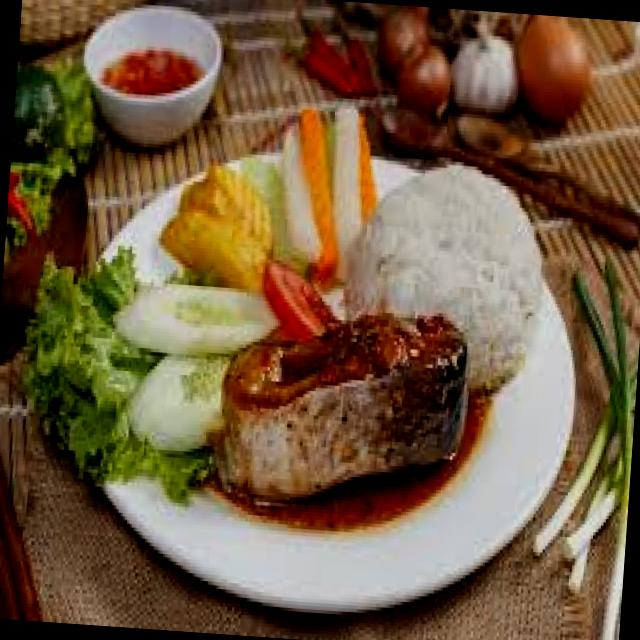ca chua: (265, 259, 339, 335)
ca kho: (215, 311, 469, 499)
com: (346, 164, 544, 391)
do chua: (263, 108, 376, 277)
dua leo: (118, 283, 277, 450)
nuoc mam: (104, 47, 203, 92)
rau: (25, 245, 215, 499), (163, 162, 271, 290)
